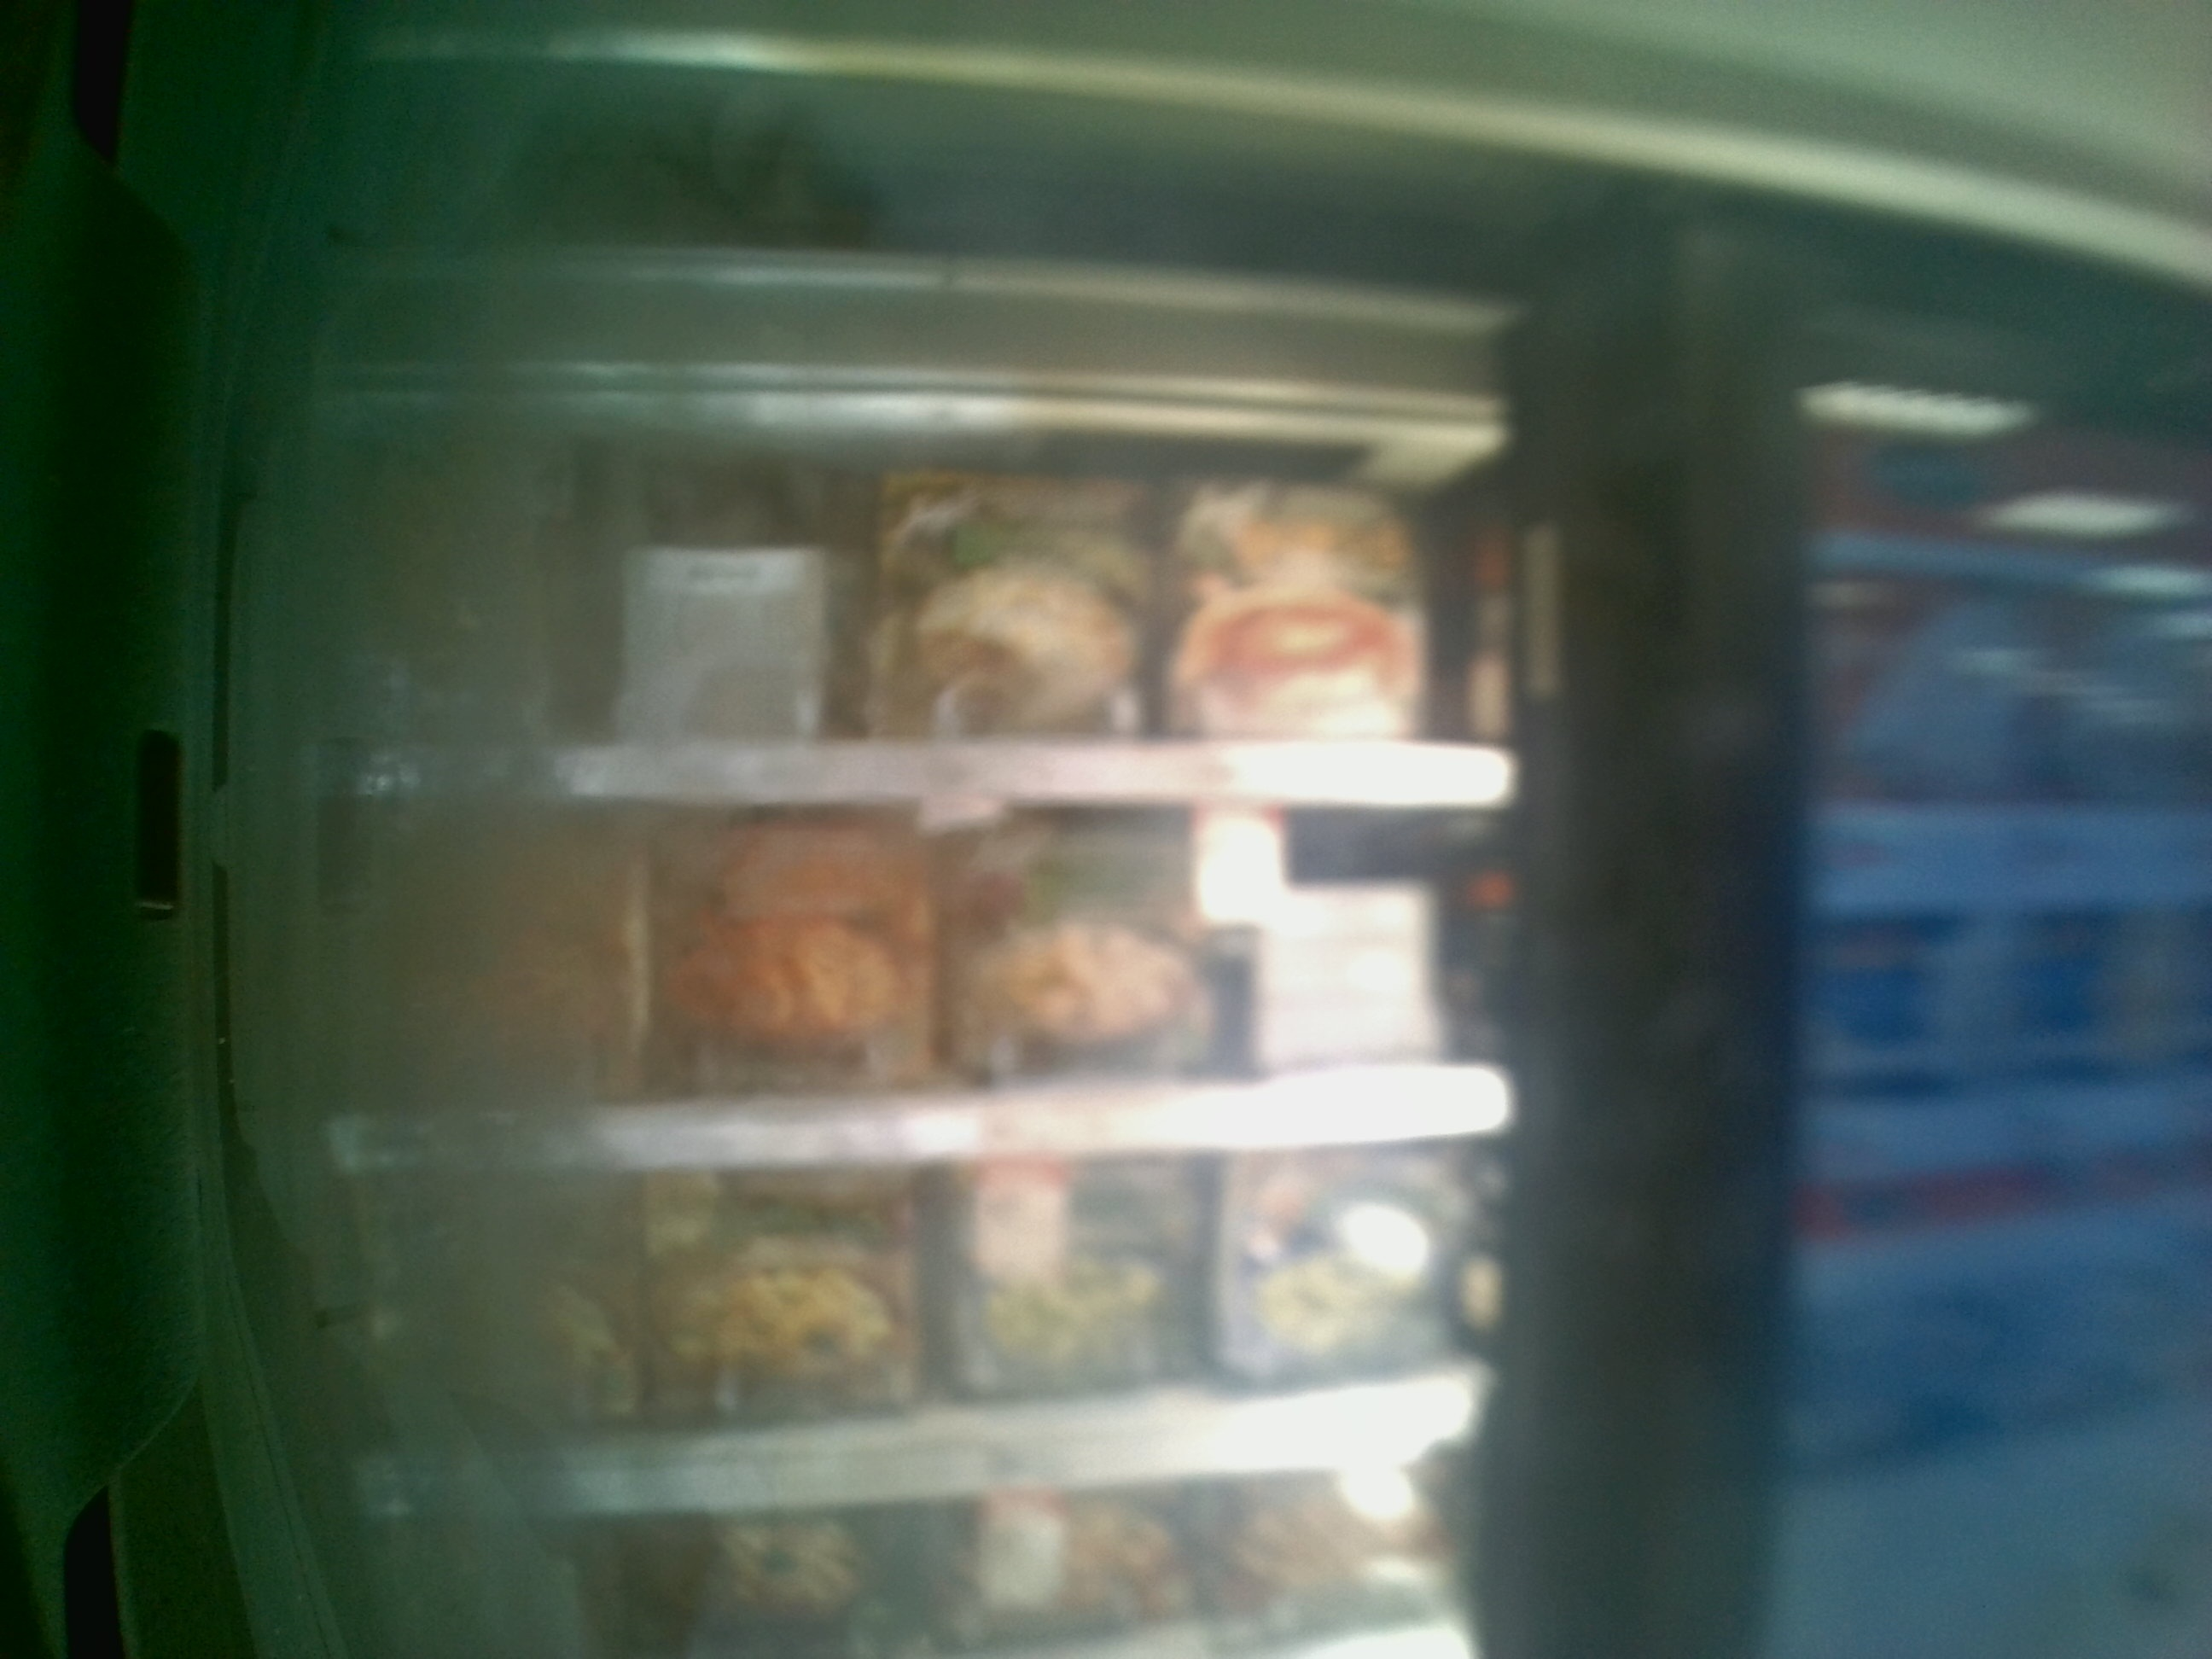frozen-food-shelf: (286, 416, 1526, 812), (289, 814, 1543, 1178)
